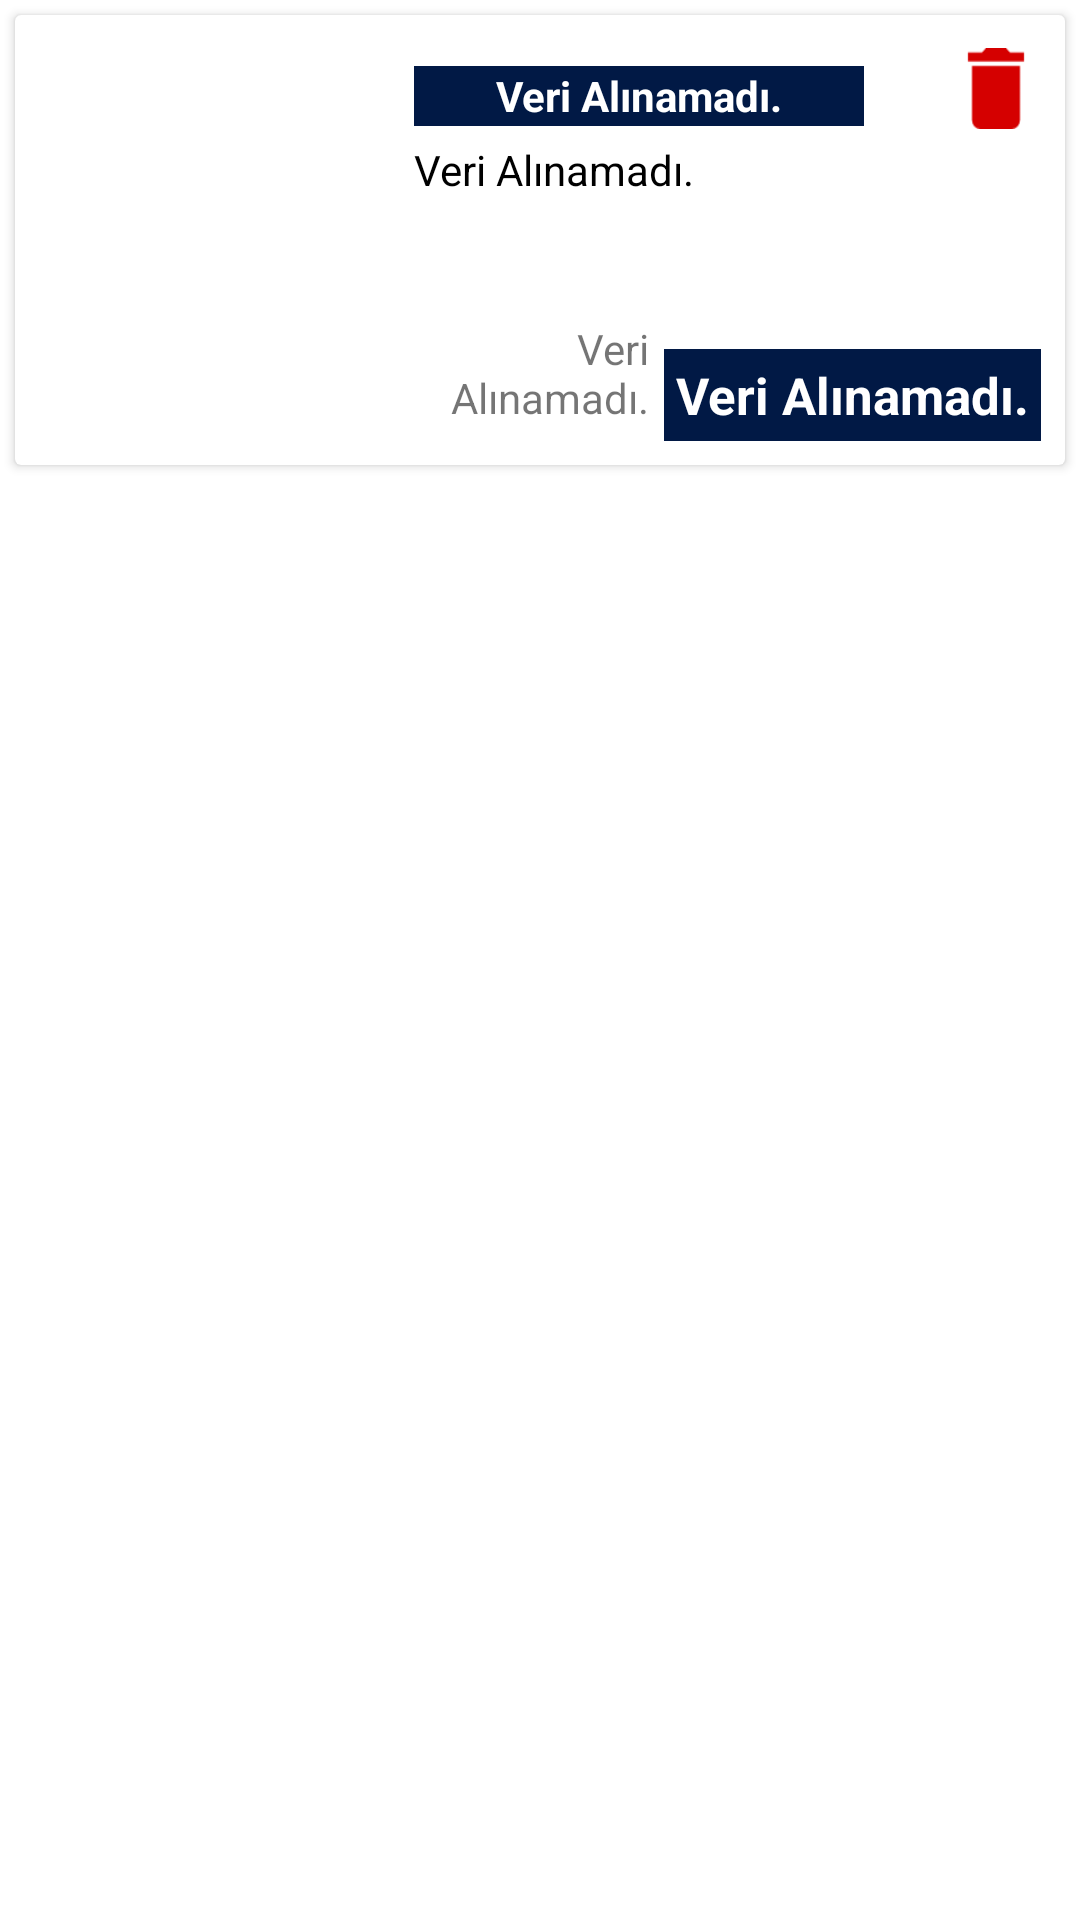

Icon click points for this 1080px x 1920px phone screenshot, format (x,y):
Kayıtları silen imagebutton: (996,88)
